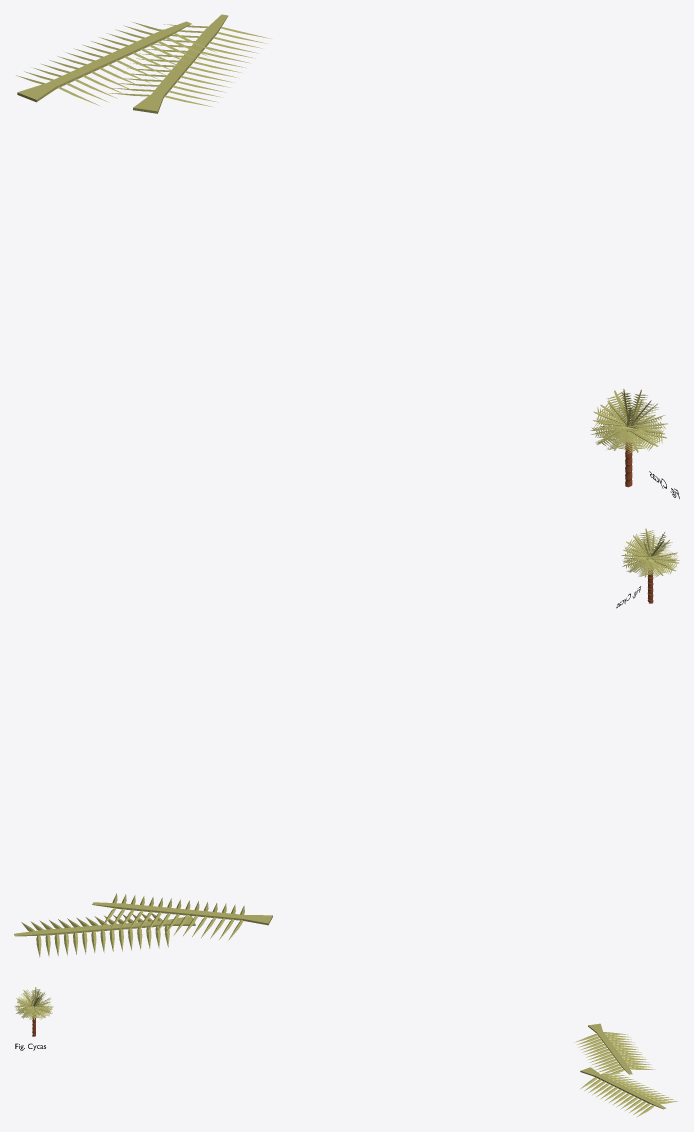
The model's file is Phanerogams_RushalNandeshwar.gltf.
3 renders of one model, top to bottom at view 1: azimuth 30°, elevation 25°; view 2: azimuth 150°, elevation 25°; view 3: azimuth 270°, elevation 25°, orthographic. The views are drawn at different scales.
Parts seen in each view (by area): view 1: Plane.001, Plane.002; view 2: Plane.002, Plane.001; view 3: Plane.001, Plane.002.
Part boxes in pixels (x1,y1,x2,y2): Plane.001: (16,21,216,105); Plane.002: (109,14,271,113); Plane.002: (14,913,195,957); Plane.001: (92,893,272,940); Plane.001: (574,1023,655,1077); Plane.002: (580,1067,678,1117).
Bounding box in the file's own units: 166 × 74.72 × 645.
